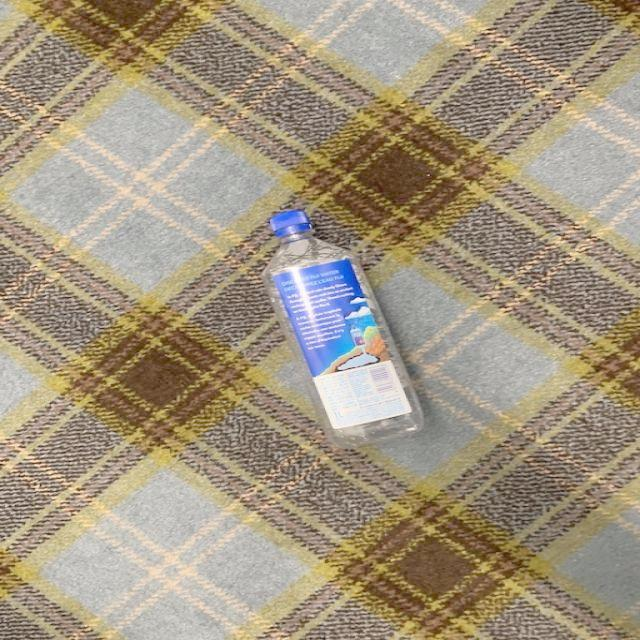bottle: (260, 210, 424, 450)
